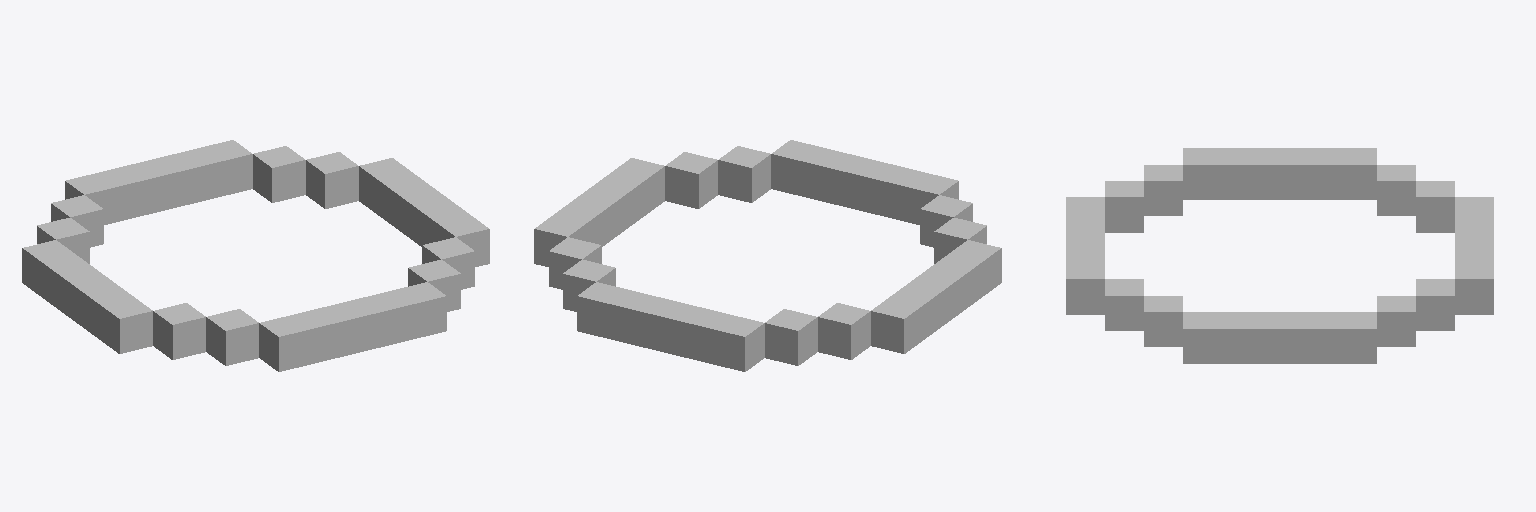
The model's file is RingCyan.obj.
3 renders of one model, left to right at view 1: azimuth 30°, elevation 25°; view 2: azimuth 150°, elevation 25°; view 3: azimuth 270°, elevation 25°, orthographic.
Parts seen in each view (by area): view 1: pCube38 RingFinalCyan; view 2: pCube38 RingFinalCyan; view 3: pCube38 RingFinalCyan.
Boxes of the visible parts, x1=… form: pCube38 RingFinalCyan: x1=22, y1=140, x2=489, y2=371; pCube38 RingFinalCyan: x1=534, y1=140, x2=1001, y2=371; pCube38 RingFinalCyan: x1=1066, y1=148, x2=1493, y2=363.
Bounding box in the file's own units: 1.1 × 0.1 × 1.1.